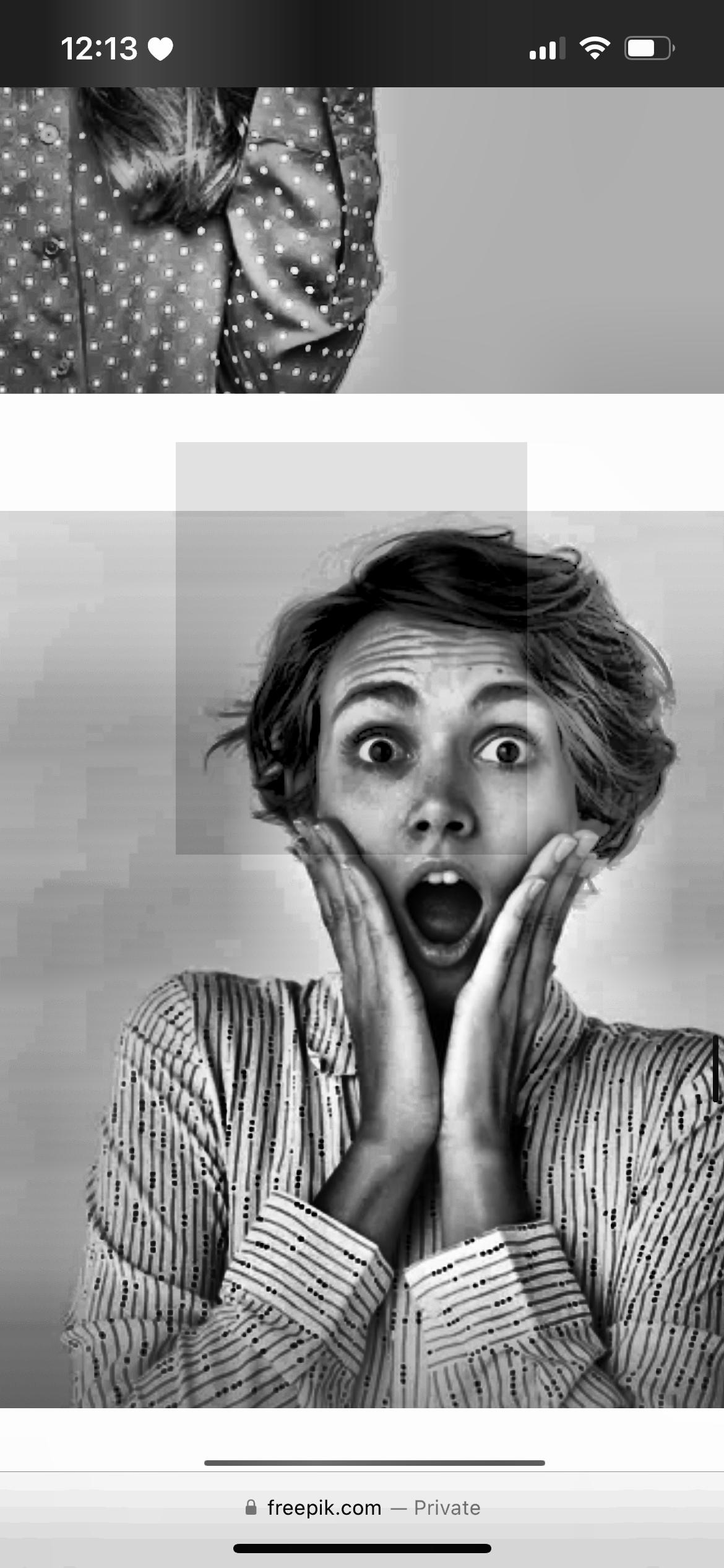surprised: (217, 547, 652, 1056)
